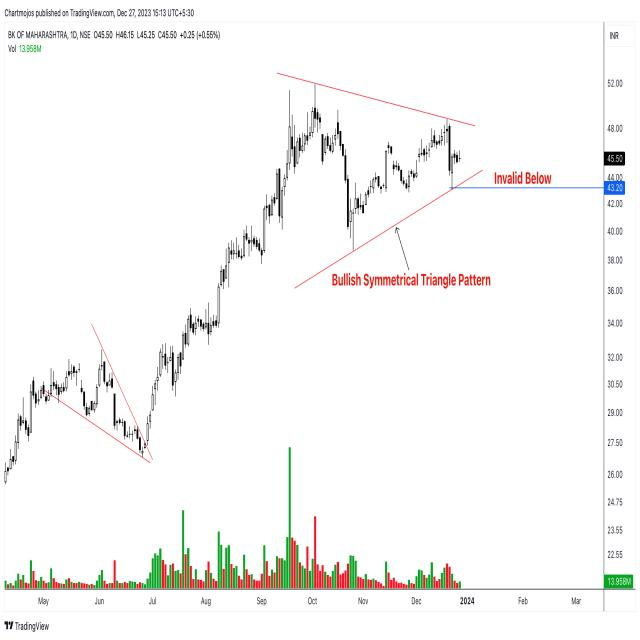Triangle: (264, 79, 523, 303)
